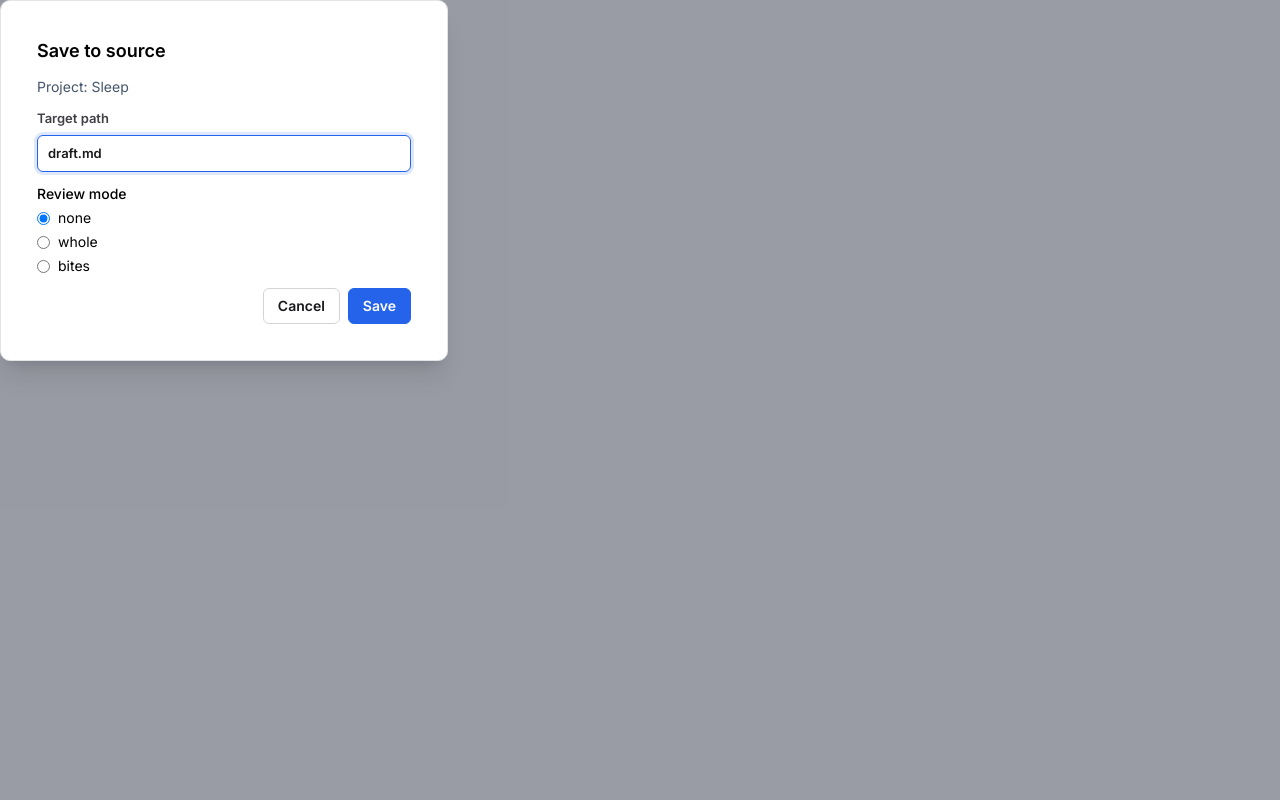
Test case: PromoteDialog › rejects non-md targets and keeps the dialog open
Replace the text in the field labelled "Target path" with "nope.txt" at (224, 153), box x1=37 y1=134 x2=411 y2=172
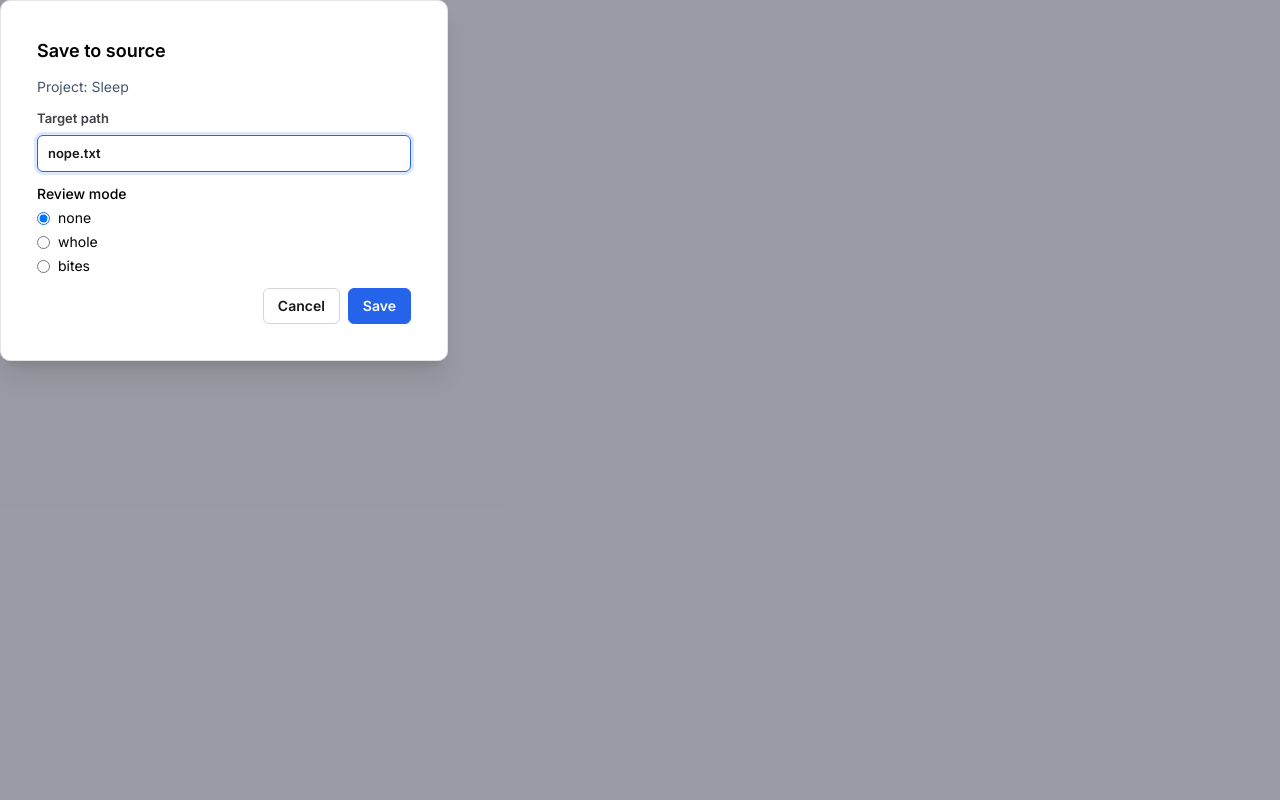
Click the button "Save".
click(379, 306)  # box x1=348 y1=288 x2=411 y2=324
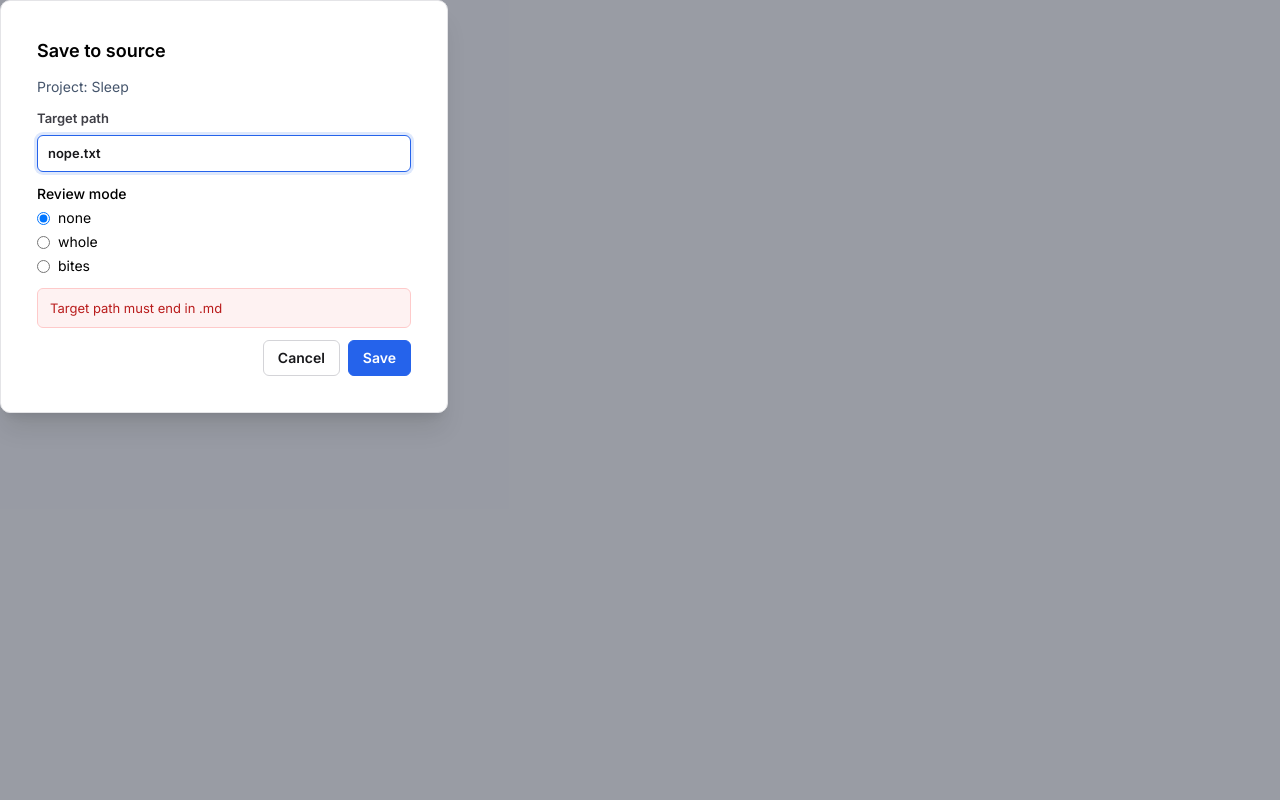
Check: the message shows "must end in .md", box x1=50 y1=300 x2=222 y2=316
